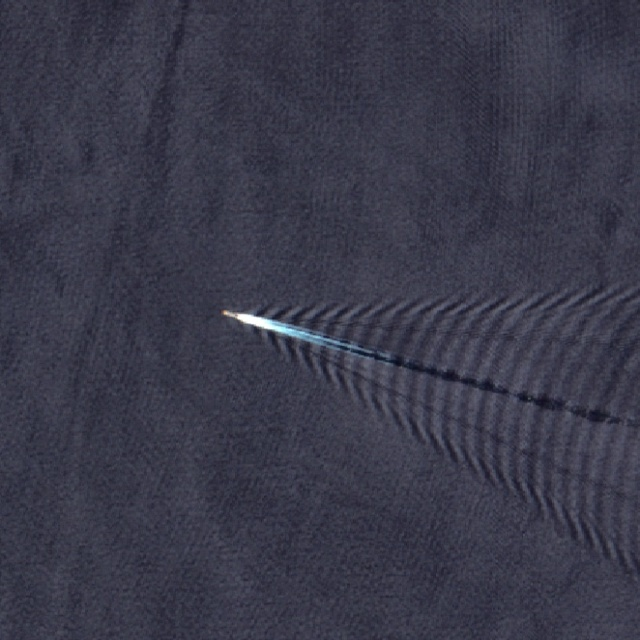wake: (192, 235, 604, 491)
